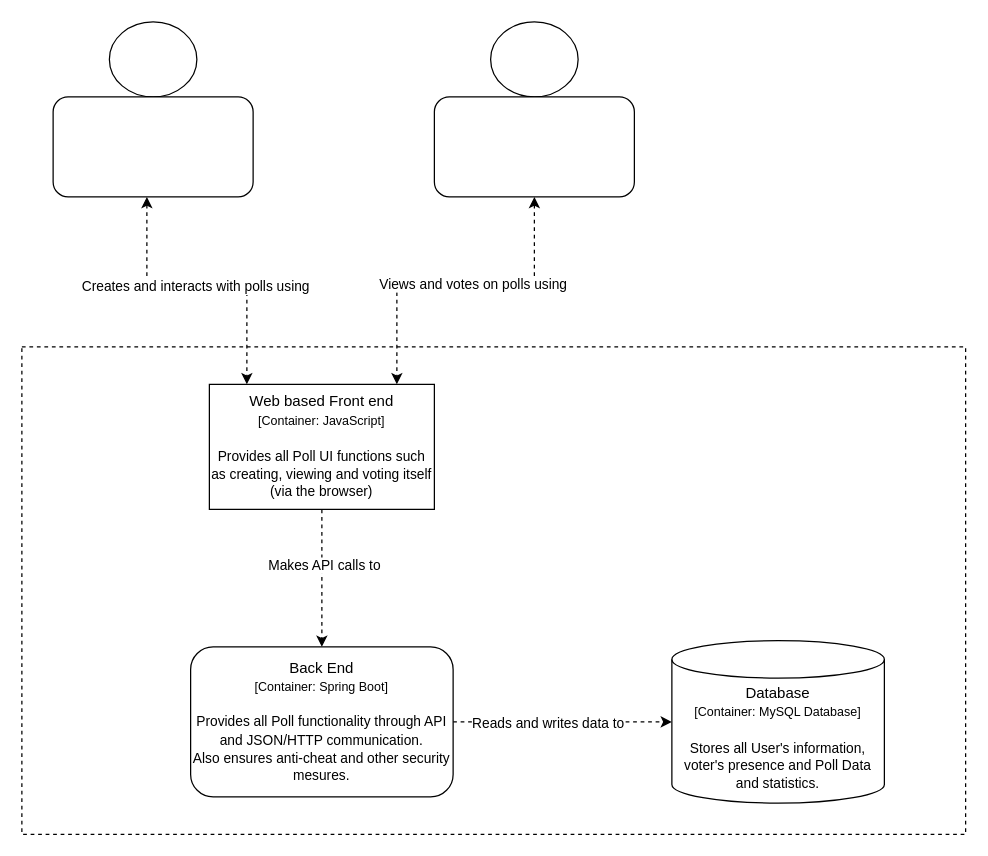
Image size: 988x856. Some labels were removed from this diagram. Each missing label, with the centre of its shape:
Pollster [Person] A user of the app, owns account and creates polls: point (152, 146)
Voter [Person] A user of the app, doesn't own account but can vote: point (533, 146)
